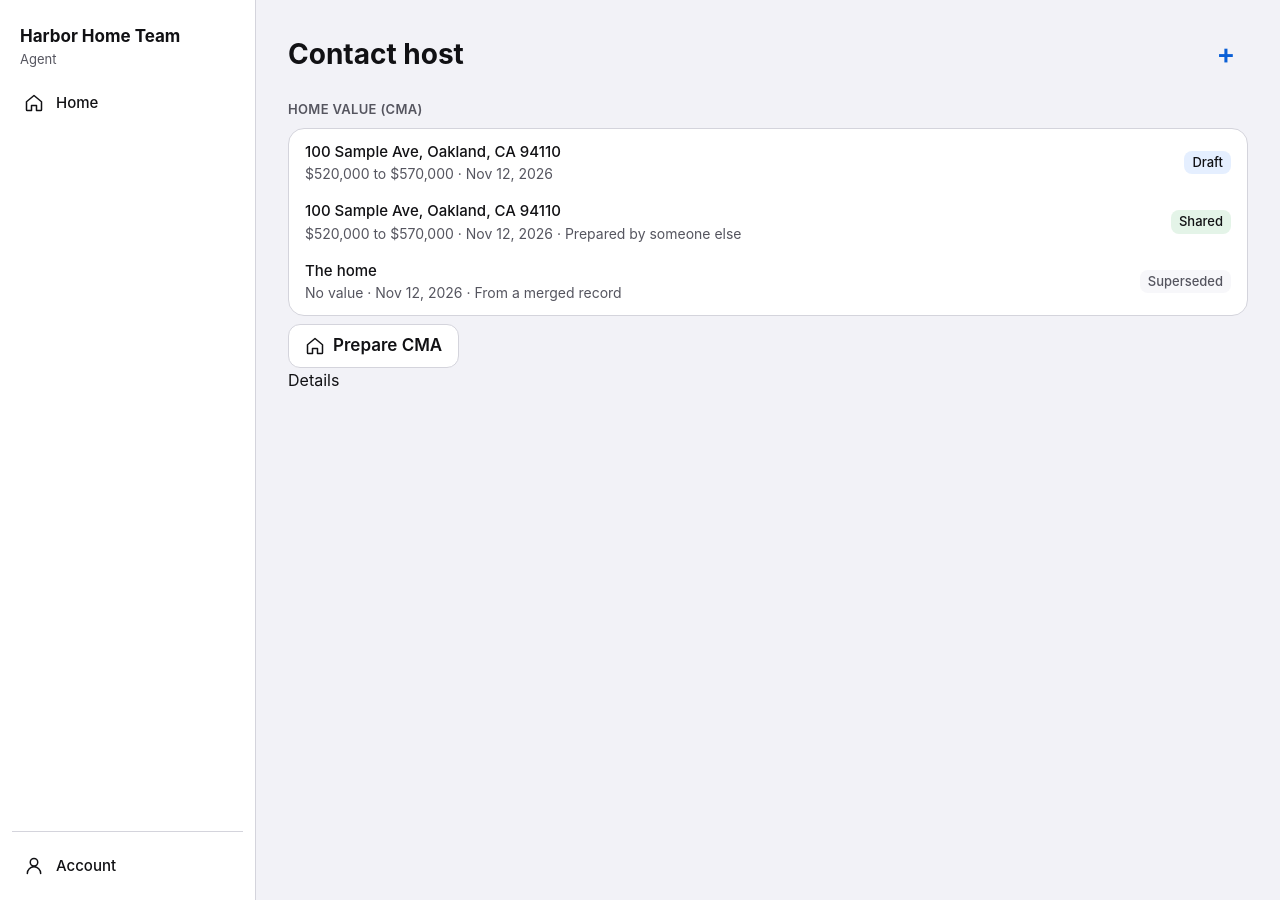
Scenario: Home value (CMA) section › lists the contact's CMAs with their status chips; a row opens the CMA
Expected: the text "Draft" is shown, [1184, 150, 1231, 174]
Expected: the text "Shared" is shown, [1171, 210, 1231, 234]
Click the link with aria-label "Open the CMA of 100 Sample Ave, Oakland, CA 94110" at (433, 151), box [293, 132, 1243, 192]
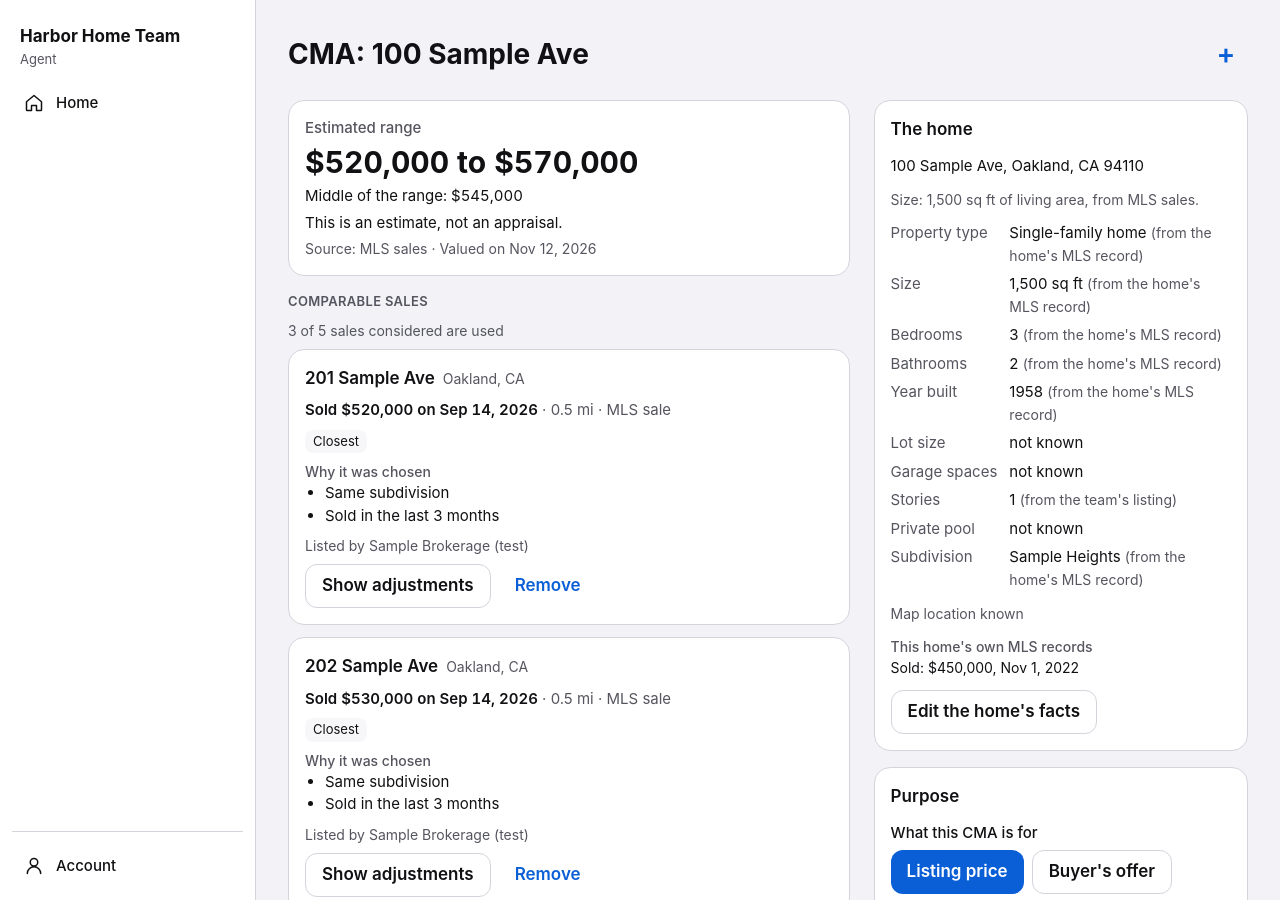
Expected: the heading "Estimated range" is shown, [305, 118, 421, 137]
